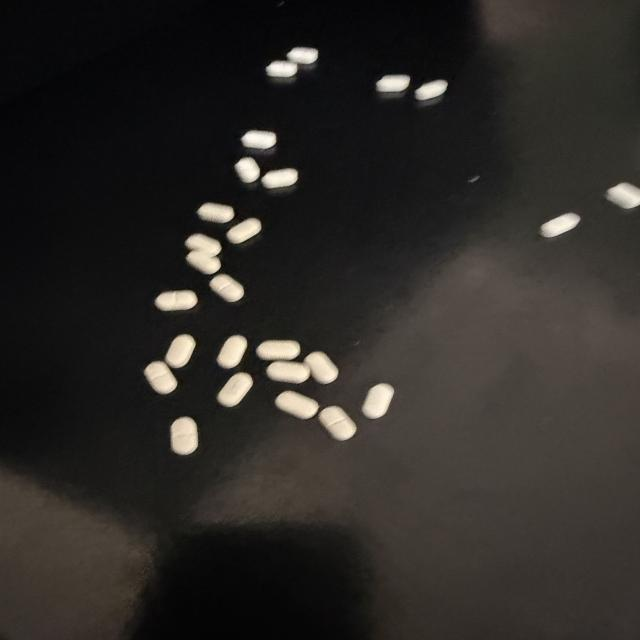pill: (319, 406, 356, 440), (275, 391, 318, 419), (218, 373, 252, 407), (144, 360, 178, 394), (362, 384, 394, 419), (164, 334, 196, 369), (304, 352, 338, 384), (171, 417, 198, 455), (217, 335, 247, 368), (540, 213, 580, 237), (210, 274, 244, 302), (267, 361, 310, 383), (227, 218, 261, 244), (256, 340, 300, 360), (155, 290, 197, 310), (606, 183, 639, 208), (186, 251, 221, 274), (185, 234, 221, 256), (197, 203, 234, 223), (262, 169, 297, 188), (241, 130, 276, 149), (235, 157, 260, 183), (415, 80, 447, 100), (376, 75, 410, 92), (287, 47, 318, 64), (266, 61, 297, 77)
